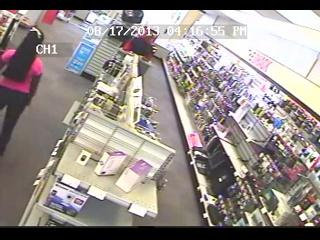Normal: (0, 32, 44, 158)
